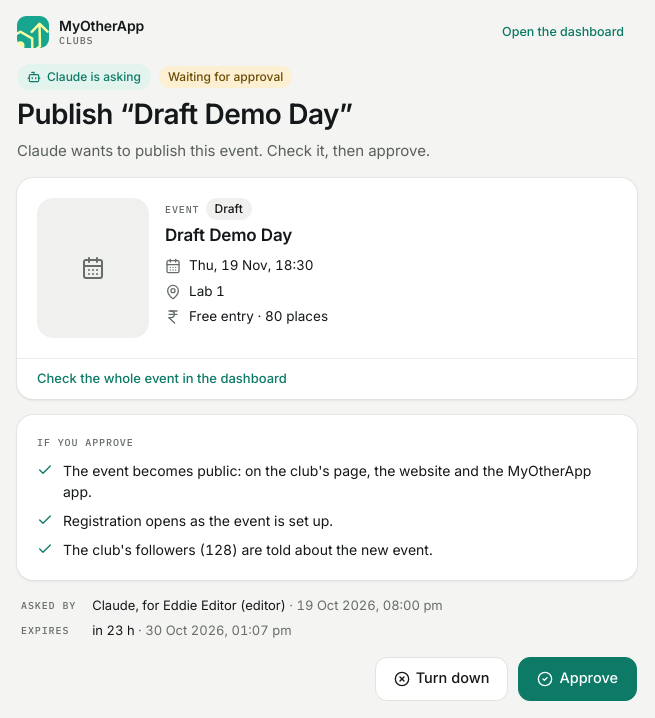
Test: when deciding is refused › reloads a request decided elsewhere and shows it (409 ACTION_DECIDED)
Click the button "Approve": (578, 679) left=518, top=657, right=637, bottom=701
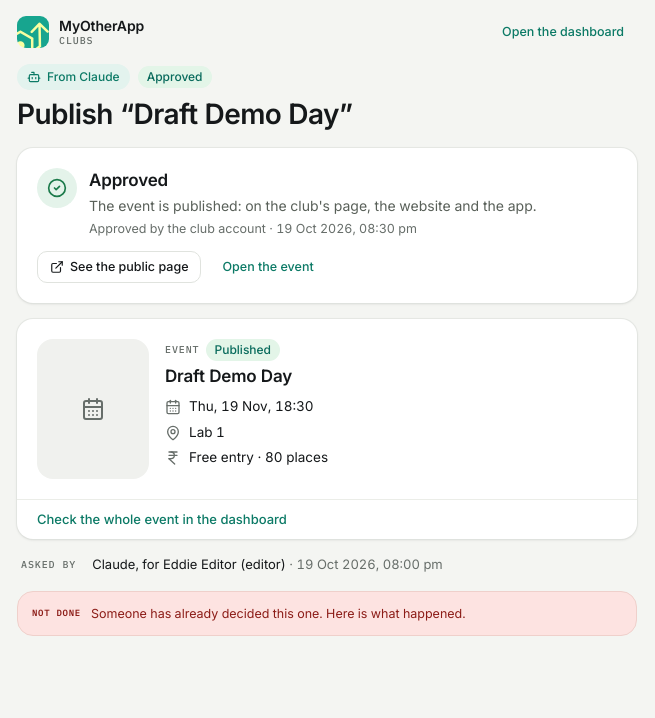
Result: the heading "Approved" is shown at left=89, top=170, right=168, bottom=190
Result: the message shows "Someone has already decided this one. Here is what happened." at left=91, top=606, right=466, bottom=621
